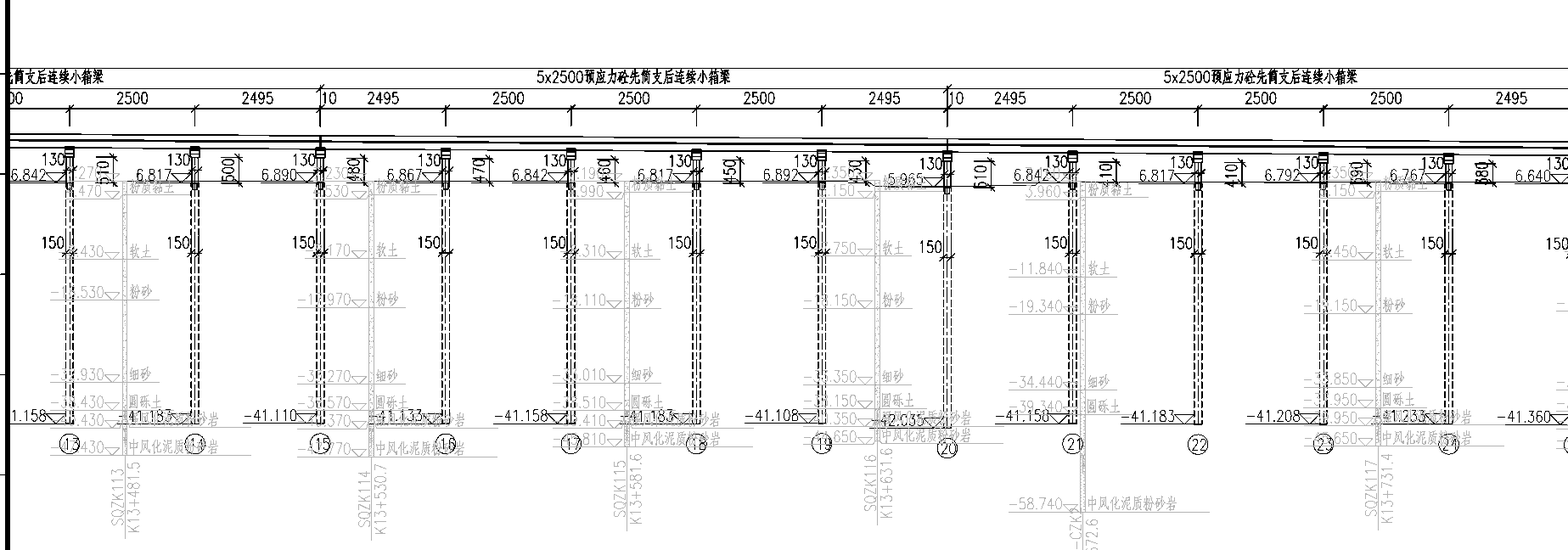B: (320, 59, 961, 104), (949, 62, 1565, 105)
C: (742, 141, 845, 461), (240, 137, 343, 457), (867, 143, 969, 465), (492, 139, 594, 460), (1244, 143, 1346, 459), (119, 138, 217, 460), (1119, 144, 1218, 462), (372, 138, 467, 459), (1374, 147, 1470, 461), (627, 139, 718, 461), (1002, 143, 1093, 458), (3, 138, 92, 458), (1493, 147, 1567, 464)
